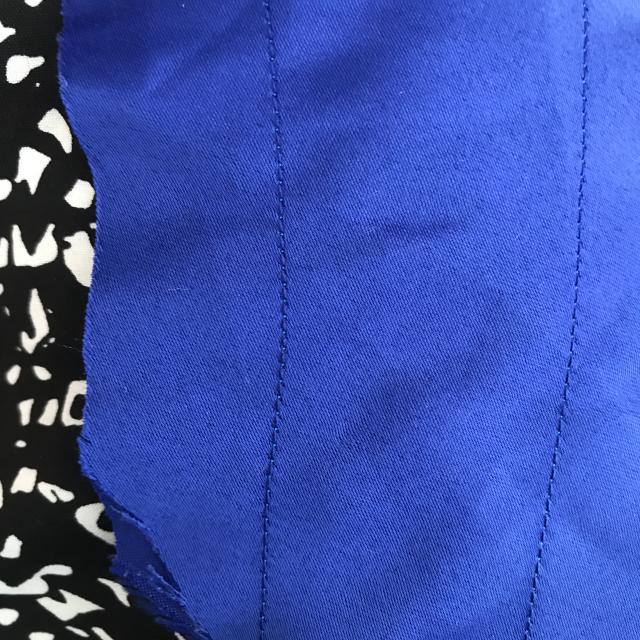good: (249, 380, 301, 528), (567, 139, 606, 246), (269, 232, 302, 353), (564, 268, 588, 386), (548, 420, 576, 507), (523, 538, 559, 598)
